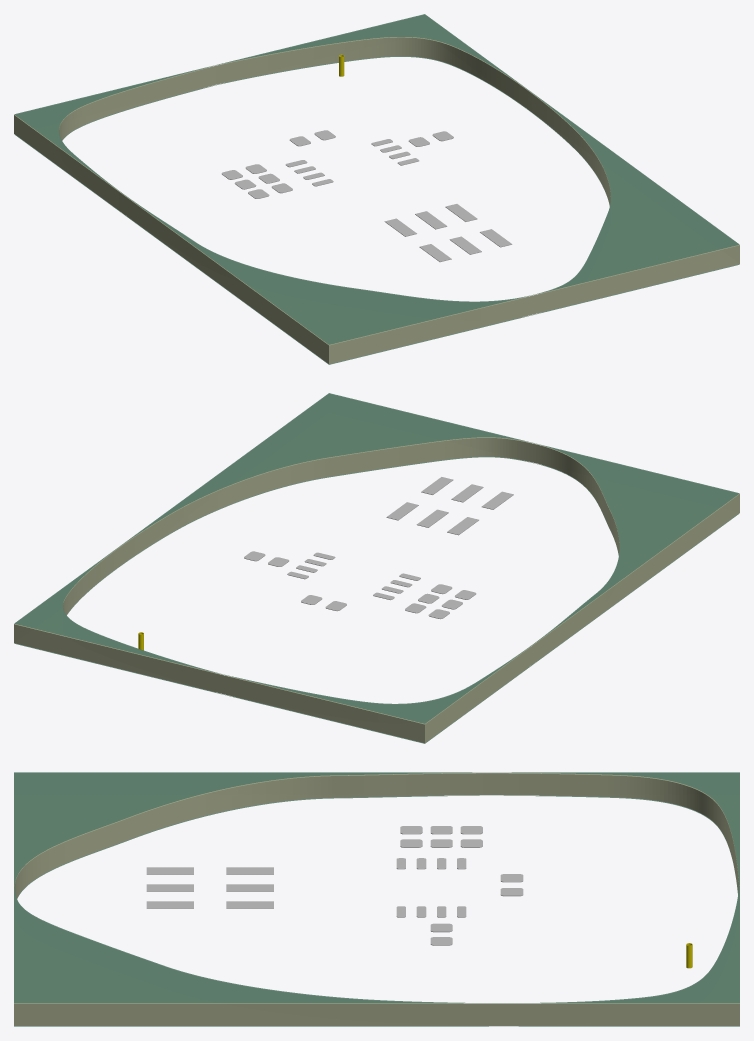
Rendered from guy-fawkes-vendetta-sao.glb.
3 renders of one model, top to bottom at view 1: azimuth 30°, elevation 25°; view 2: azimuth 150°, elevation 25°; view 3: azimuth 270°, elevation 25°, orthographic. The views are drawn at different scales.
Parts seen in each view (by area): view 1: =>[0:1:1:7], =>[0:1:1:5], =>[0:1:1:2]; view 2: =>[0:1:1:7], =>[0:1:1:5], =>[0:1:1:2]; view 3: =>[0:1:1:7], =>[0:1:1:5], =>[0:1:1:2].
Boxes of the visible parts, x1,y1,x2,y2 form: =>[0:1:1:7]: [14, 15, 739, 364]; =>[0:1:1:5]: [14, 14, 739, 364]; =>[0:1:1:2]: [221, 54, 512, 262]; =>[0:1:1:7]: [14, 394, 739, 743]; =>[0:1:1:5]: [14, 393, 739, 743]; =>[0:1:1:2]: [138, 477, 513, 650]; =>[0:1:1:7]: [14, 773, 739, 1025]; =>[0:1:1:5]: [14, 772, 739, 1026]; =>[0:1:1:2]: [146, 826, 692, 968].
Size of the model in its own units: 0.0345 by 0.00163 by 0.0458.
Materials: 4 (4 with a texture image).
